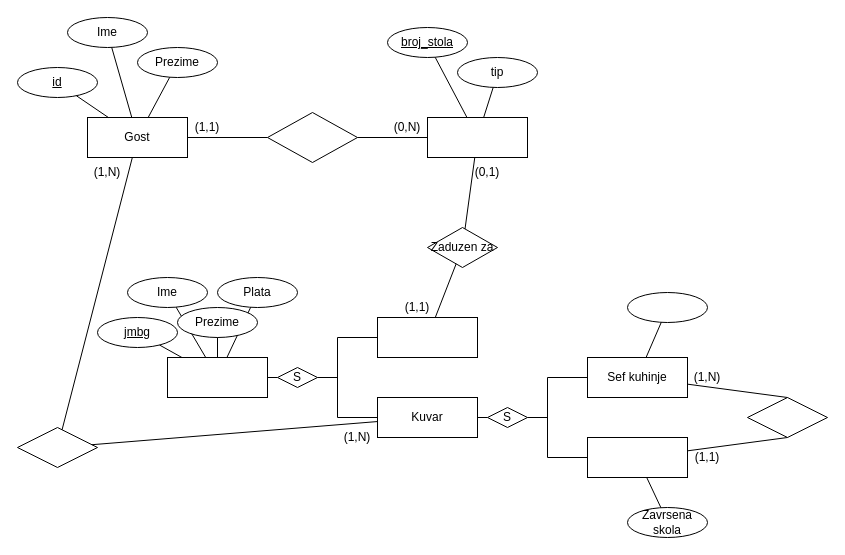
Some shapes in this 845 by 555 pixel diagram are drawn without their labels. The box of each missing label's shape, as (x1, y1, x2, y2) in pixels:
Godine iskustva: (626, 292, 708, 322)
Konobar: (376, 316, 478, 358)
Kuva za: (16, 426, 98, 468)
Nadgleda: (746, 396, 828, 438)
Pomocni: (586, 436, 688, 478)
Sedi: (266, 112, 358, 162)
Sto: (426, 116, 528, 158)
Zaposleni: (166, 356, 268, 398)
